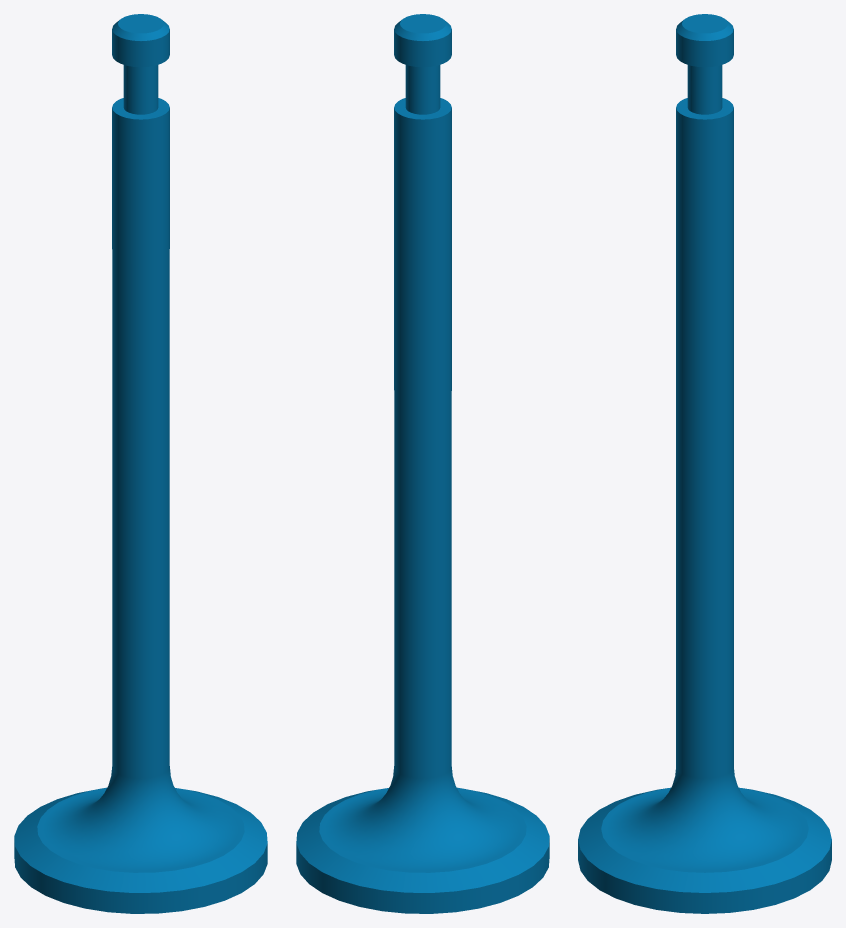
Rendered from VALVE.glb.
3 views of the same model, side by side, from view 1: azimuth 30°, elevation 25°; view 2: azimuth 150°, elevation 25°; view 3: azimuth 270°, elevation 25° (orthographic).
Visible parts, largest first — view 1: VALVE; view 2: VALVE; view 3: VALVE.
Part boxes in pixels (<box>): VALVE: <box>14,14,267,913</box>; VALVE: <box>296,14,549,913</box>; VALVE: <box>578,14,831,913</box>.
Size of the model in its own units: 0.022 by 0.08 by 0.022.
